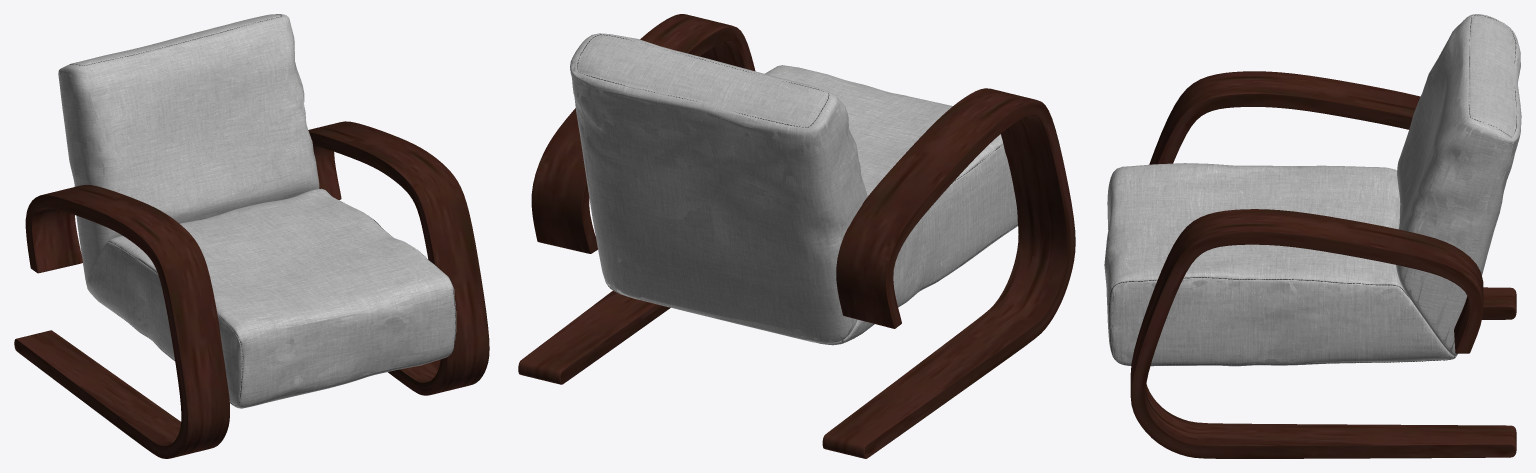
The model's file is Tank_chair_2-transformed.glb.
3 views of the same model, side by side, from view 1: azimuth 30°, elevation 25°; view 2: azimuth 150°, elevation 25°; view 3: azimuth 270°, elevation 25° (orthographic). The views are drawn at different scales.
Parts seen in each view (by area): view 1: Fabric_HighRes, Wireframe_LowRes, Object_7; view 2: Fabric_HighRes, Object_7, Wireframe_LowRes; view 3: Fabric_HighRes, Object_7, Wireframe_LowRes, Object_11.
Part boxes in pixels (x1,y1,x2,y2): Fabric_HighRes: [58, 14, 455, 408]; Wireframe_LowRes: [58, 14, 456, 408]; Object_7: [14, 121, 489, 458]; Fabric_HighRes: [570, 33, 1017, 344]; Object_7: [518, 14, 1075, 458]; Wireframe_LowRes: [570, 33, 1017, 345]; Fabric_HighRes: [1104, 14, 1520, 366]; Object_7: [1130, 71, 1516, 458]; Wireframe_LowRes: [1104, 14, 1521, 365]; Object_11: [1109, 15, 1516, 365].
Size of the model in its own units: 0.7157 by 0.6497 by 0.7794.
3 materials, 2 textured.
